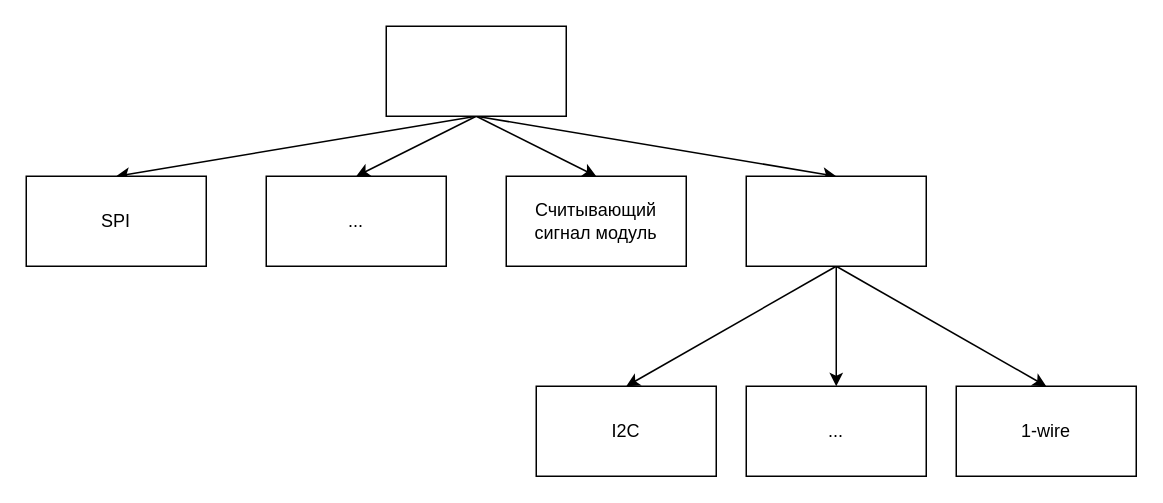
Image size: 1163x503. Some labels were removed from this diagram. Here are the shapes that lost their labels. From the top down, the centre of each, then its label:
At [475,70]: "Модуль".
At [835,220]: "Контейнер модулей".
